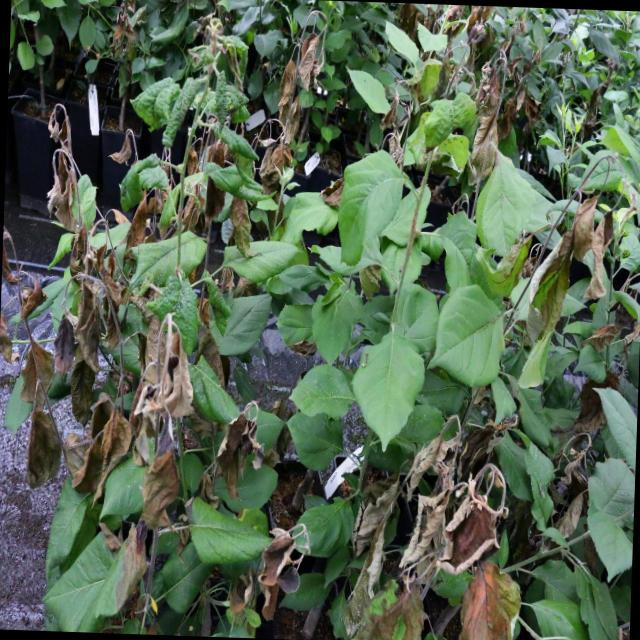-FireBlight-: (0, 115, 199, 494), (353, 412, 526, 640), (93, 394, 269, 614), (518, 175, 628, 374), (475, 28, 544, 173), (270, 17, 329, 180), (255, 524, 312, 614)
